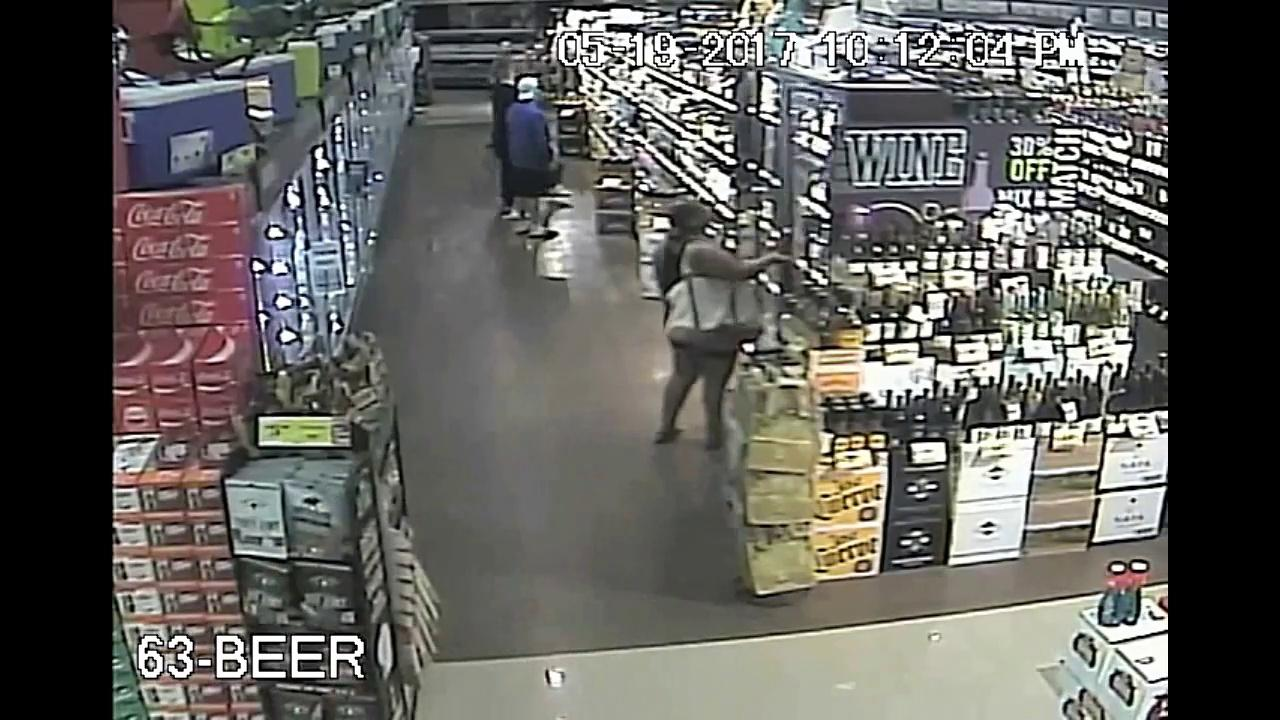Customer-Bagpack: (649, 276, 764, 360)
Regular: (620, 165, 855, 463), (463, 35, 580, 259)
